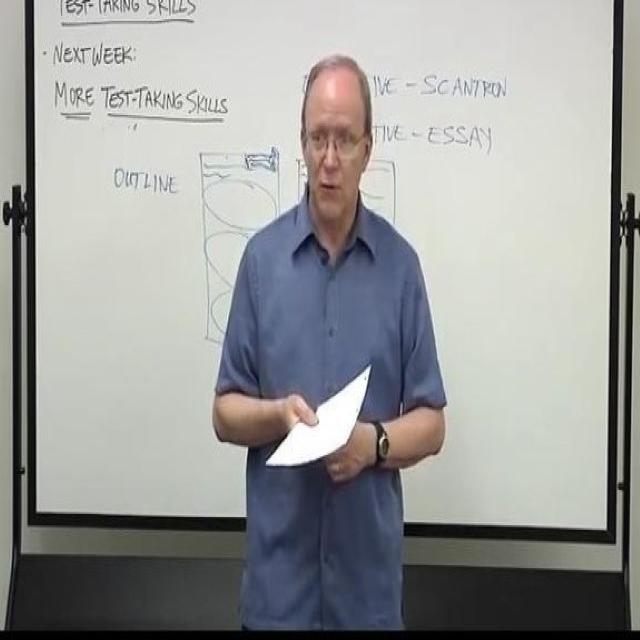Instructor: (249, 56, 416, 583)
White-board: (35, 0, 610, 526)
